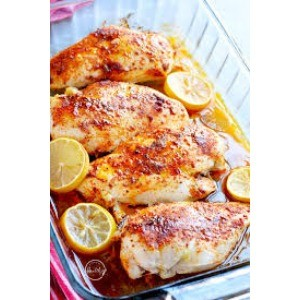chicken breast_brain food: (133, 218, 221, 265), (89, 93, 166, 135), (107, 158, 183, 198), (81, 35, 142, 75)
